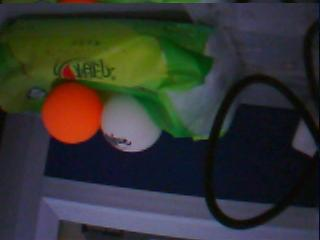oball: (42, 84, 102, 144)
